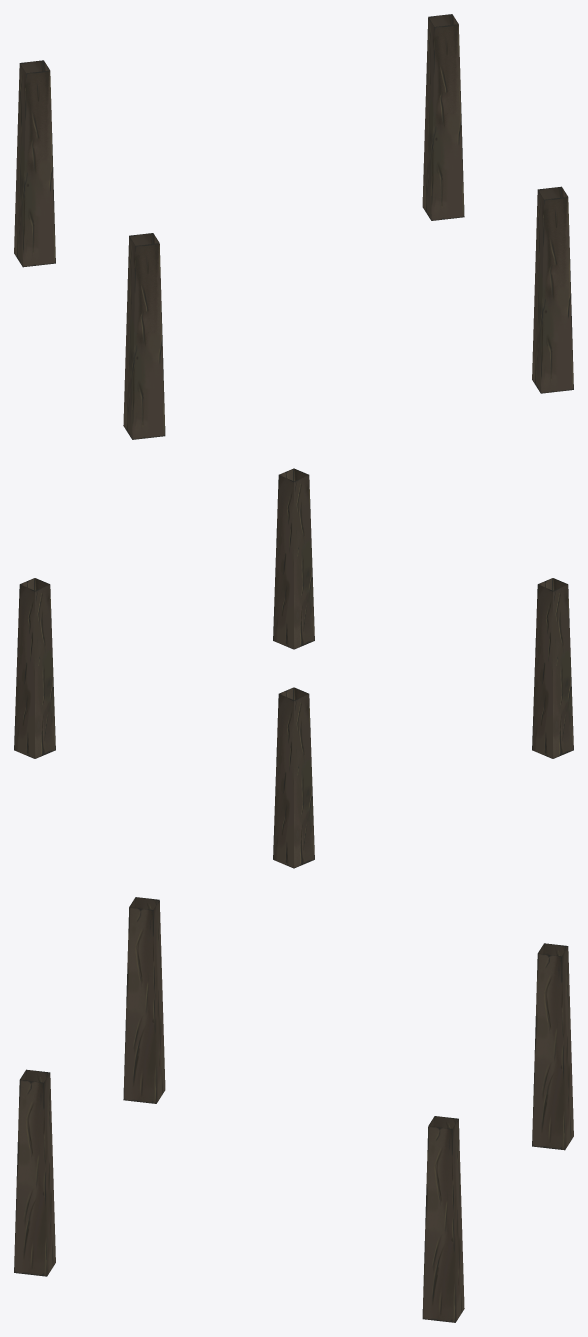
Rendered from polysurface526_txt_poutrev_base_0_lev1_lev2.glb.
3 renders of one model, top to bottom at view 1: azimuth 30°, elevation 25°; view 2: azimuth 150°, elevation 25°; view 3: azimuth 270°, elevation 25°, orthographic. The views are drawn at different scales.
Visible parts, largest first — view 1: polysurface526_txt_poutrev_base_0_lev1_lev2; view 2: polysurface526_txt_poutrev_base_0_lev1_lev2; view 3: polysurface526_txt_poutrev_base_0_lev1_lev2.
Part boxes in pixels (x1,y1,x2,y2): polysurface526_txt_poutrev_base_0_lev1_lev2: (14,14,573,439); polysurface526_txt_poutrev_base_0_lev1_lev2: (14,468,573,868); polysurface526_txt_poutrev_base_0_lev1_lev2: (14,897,573,1322).
Size of the model in its own units: 8.12 by 3.07 by 8.12.
Materials: 1 (1 with a texture image).
